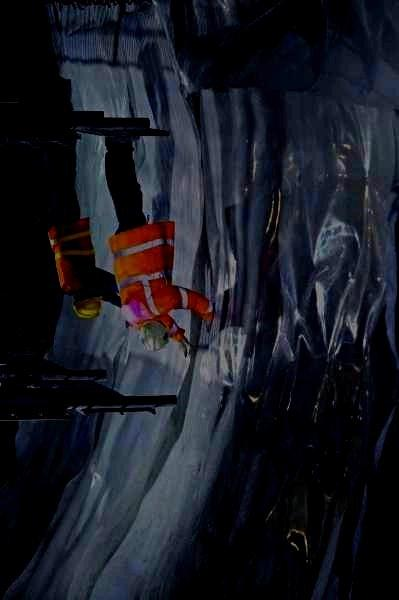helmet: (138, 319, 170, 352), (72, 287, 102, 320)
